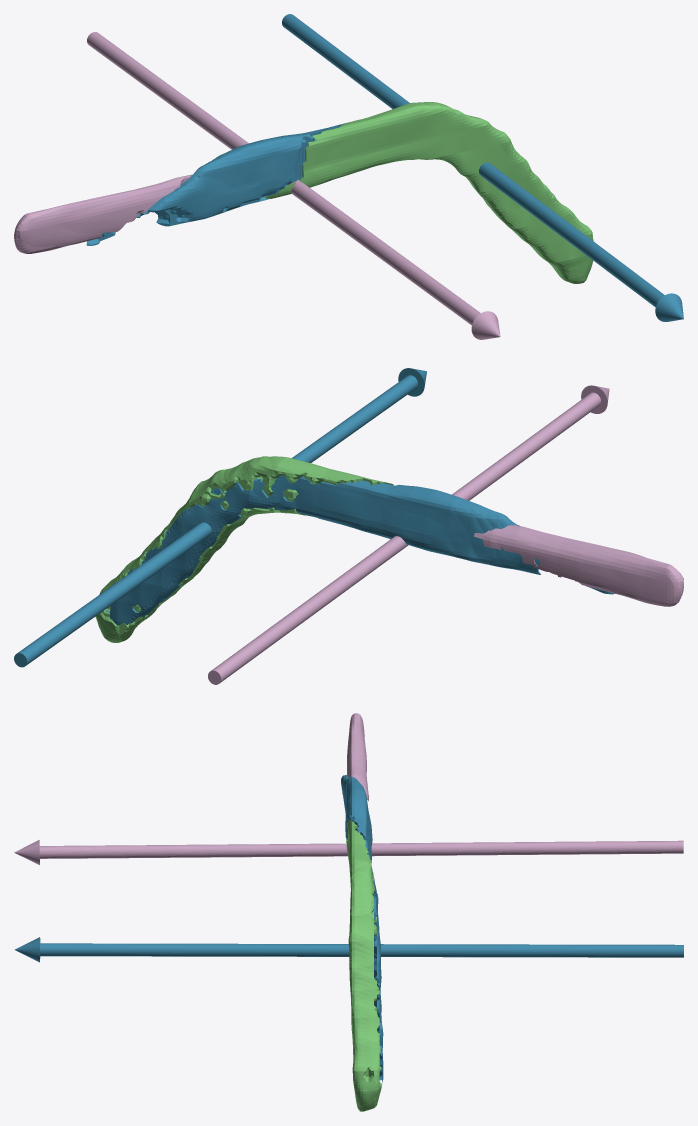
3 renders of one model, top to bottom at view 1: azimuth 30°, elevation 25°; view 2: azimuth 150°, elevation 25°; view 3: azimuth 270°, elevation 25°, orthographic. The views are drawn at different scales.
Visible parts, largest first — view 1: part4, world, part3, part1; view 2: part3, world, part1, part4; view 3: world, part4, part3, part1.
Boxes of the visible parts, x1,y1,x2,y2 form: part4: (262, 102, 593, 283); world: (87, 14, 683, 339); part3: (86, 123, 345, 245); part1: (14, 174, 192, 253); part3: (104, 475, 614, 625); world: (14, 368, 609, 684); part1: (474, 525, 683, 606); part4: (95, 456, 393, 642); world: (14, 840, 683, 962); part4: (346, 818, 382, 1111); part3: (341, 775, 383, 1082); part1: (347, 713, 368, 801).
Bounding box in the file's own units: 0.8698 × 0.3186 × 1.04.
